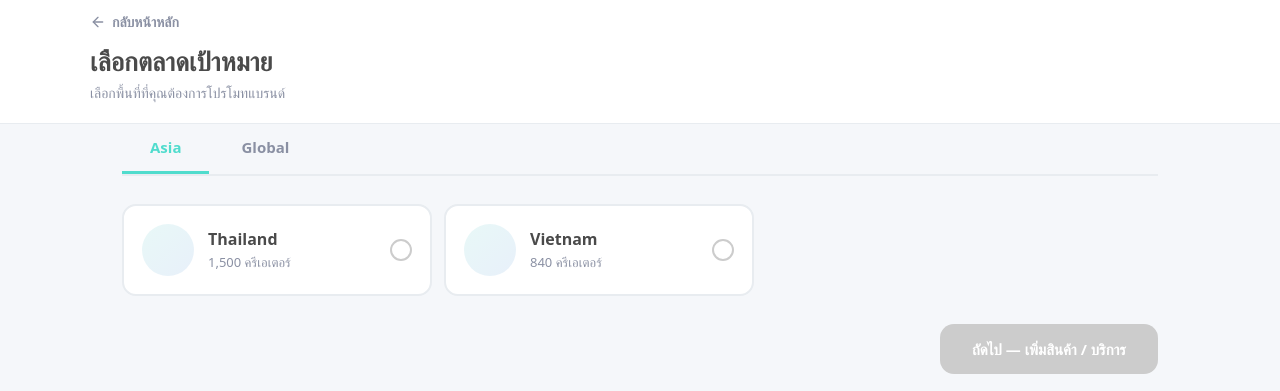
SelectCountryPage › Global tab shows non-Asia countries
This screenshot has width=1280, height=391.
Expected: the text "Thailand" is shown, [208, 228, 278, 250]
Click the button "Global".
click(265, 149)  # box [214, 124, 317, 174]
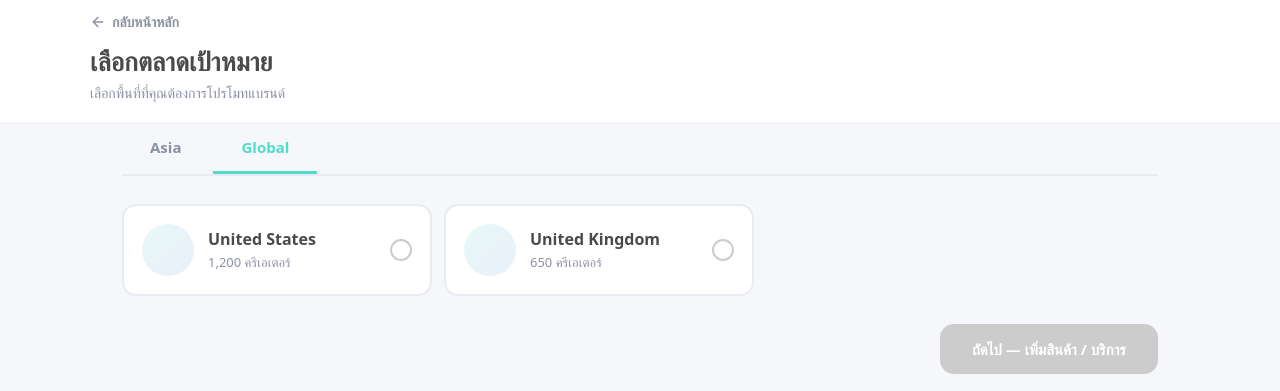
Result: the text "United States" is shown at [208, 228, 316, 250]
Result: the button "Thailand" is gone
